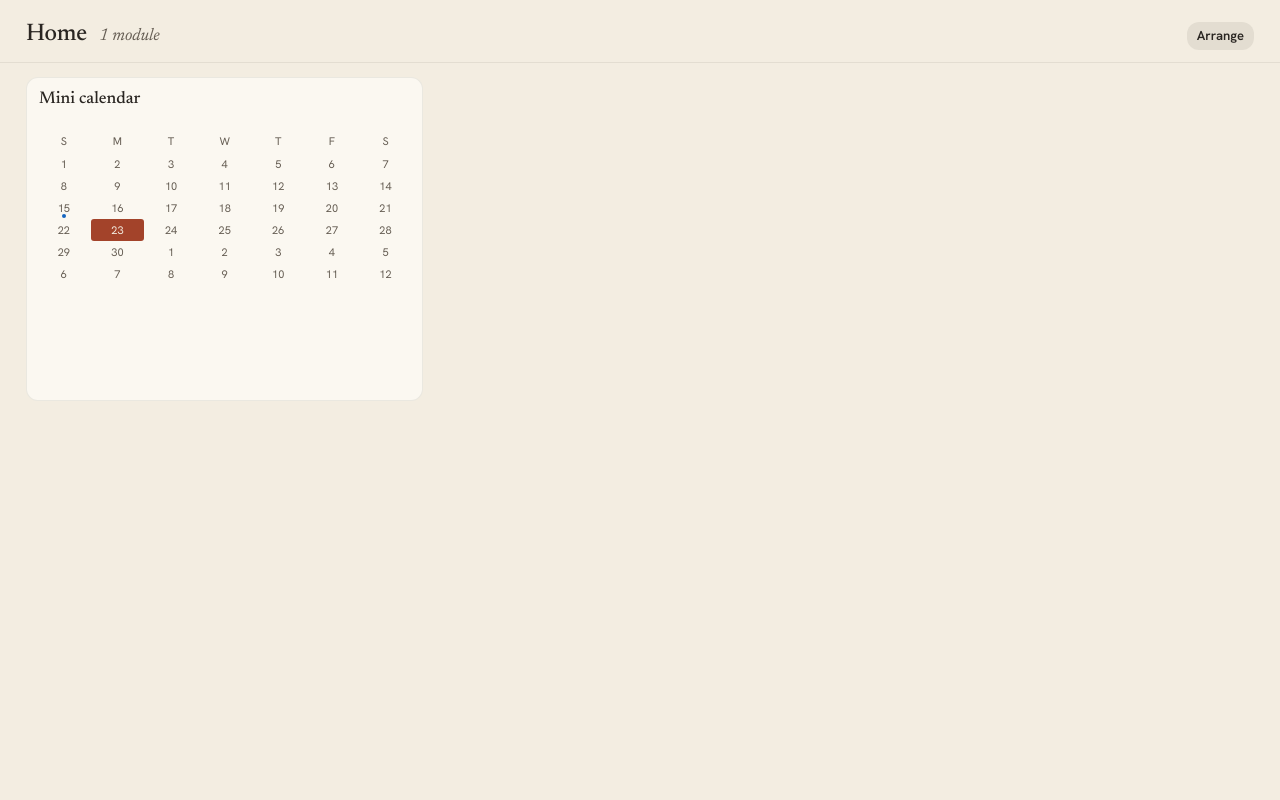
it: mini calendar › opens a read-only popover of the day’s events
The image size is (1280, 800).
Click the button "15".
click(64, 208)  # box [37,197,91,219]
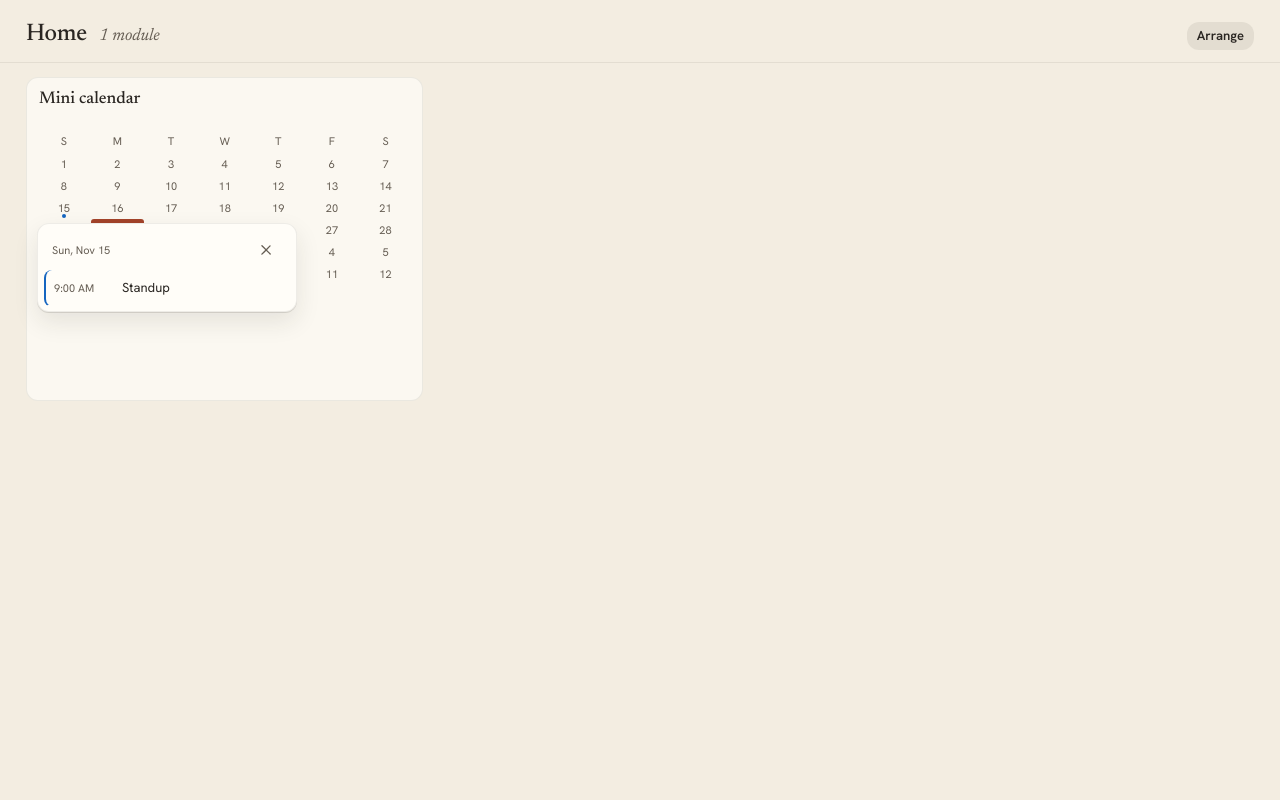
Check: the text "Standup" is shown, box [122,278,170,298]
